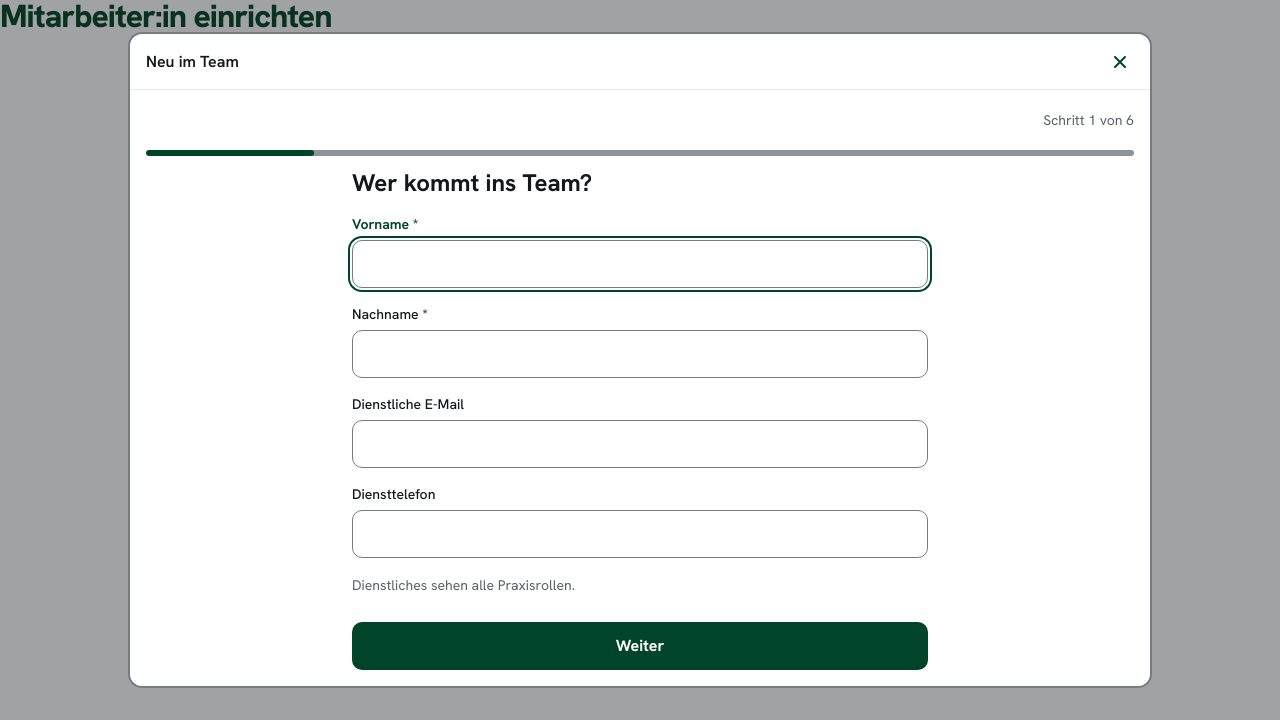
Test: NewStaffMemberPage: Neue:n Mitarbeiter:in einrichten (G5) › verlangt Vor- und Nachname, bevor es weitergeht
The image size is (1280, 720).
Expected: the text "Schritt 1 von 6" is shown, top-left (1043, 110), bottom-right (1134, 130)
Step 1. Click the button "Weiter" → (640, 646), box top-left (352, 622), bottom-right (928, 670)
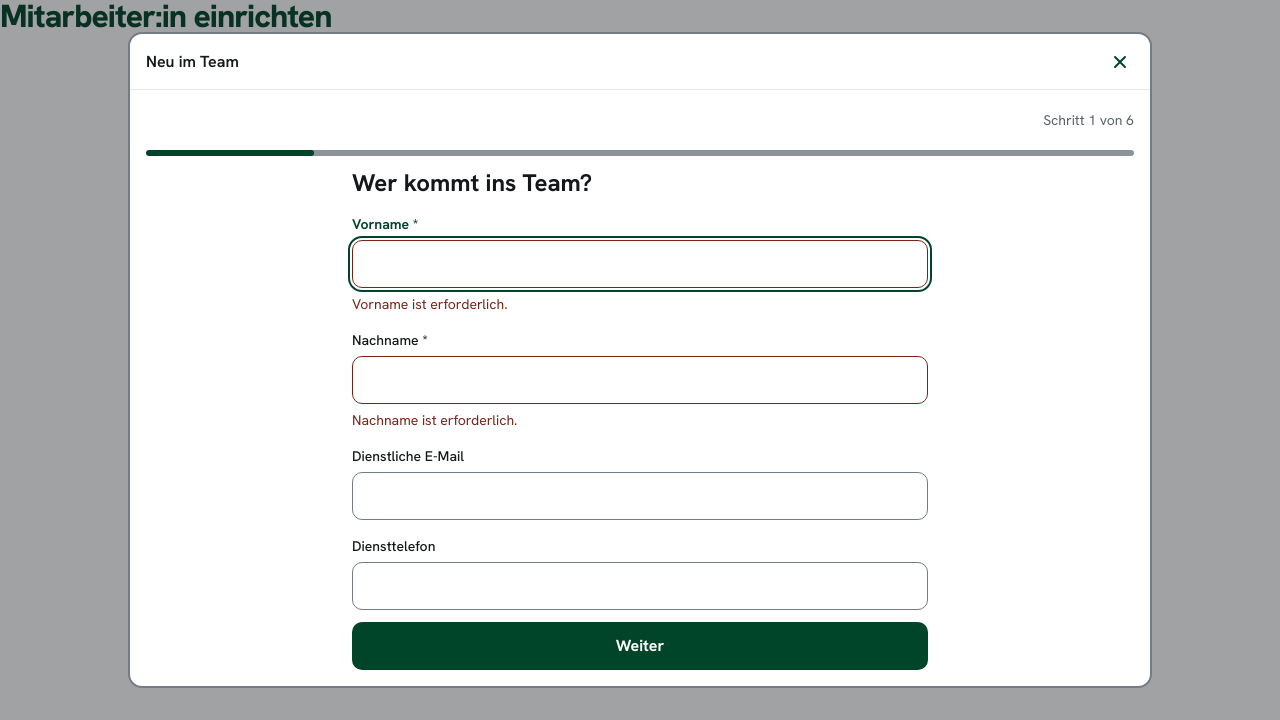
Expected: the text "Vorname ist erforderlich." is shown, top-left (352, 295), bottom-right (508, 313)
Expected: the text "Nachname ist erforderlich." is shown, top-left (352, 411), bottom-right (517, 429)
